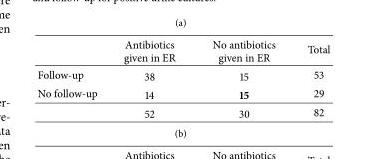table: (36, 36, 329, 120)
table column: (193, 36, 290, 120), (109, 36, 193, 120), (36, 36, 109, 120), (290, 36, 329, 120)
table column header: (36, 36, 329, 65)
table row: (36, 36, 329, 65), (36, 65, 329, 84), (36, 84, 329, 103), (36, 103, 329, 120)
table spanning cell: (36, 84, 109, 120)
